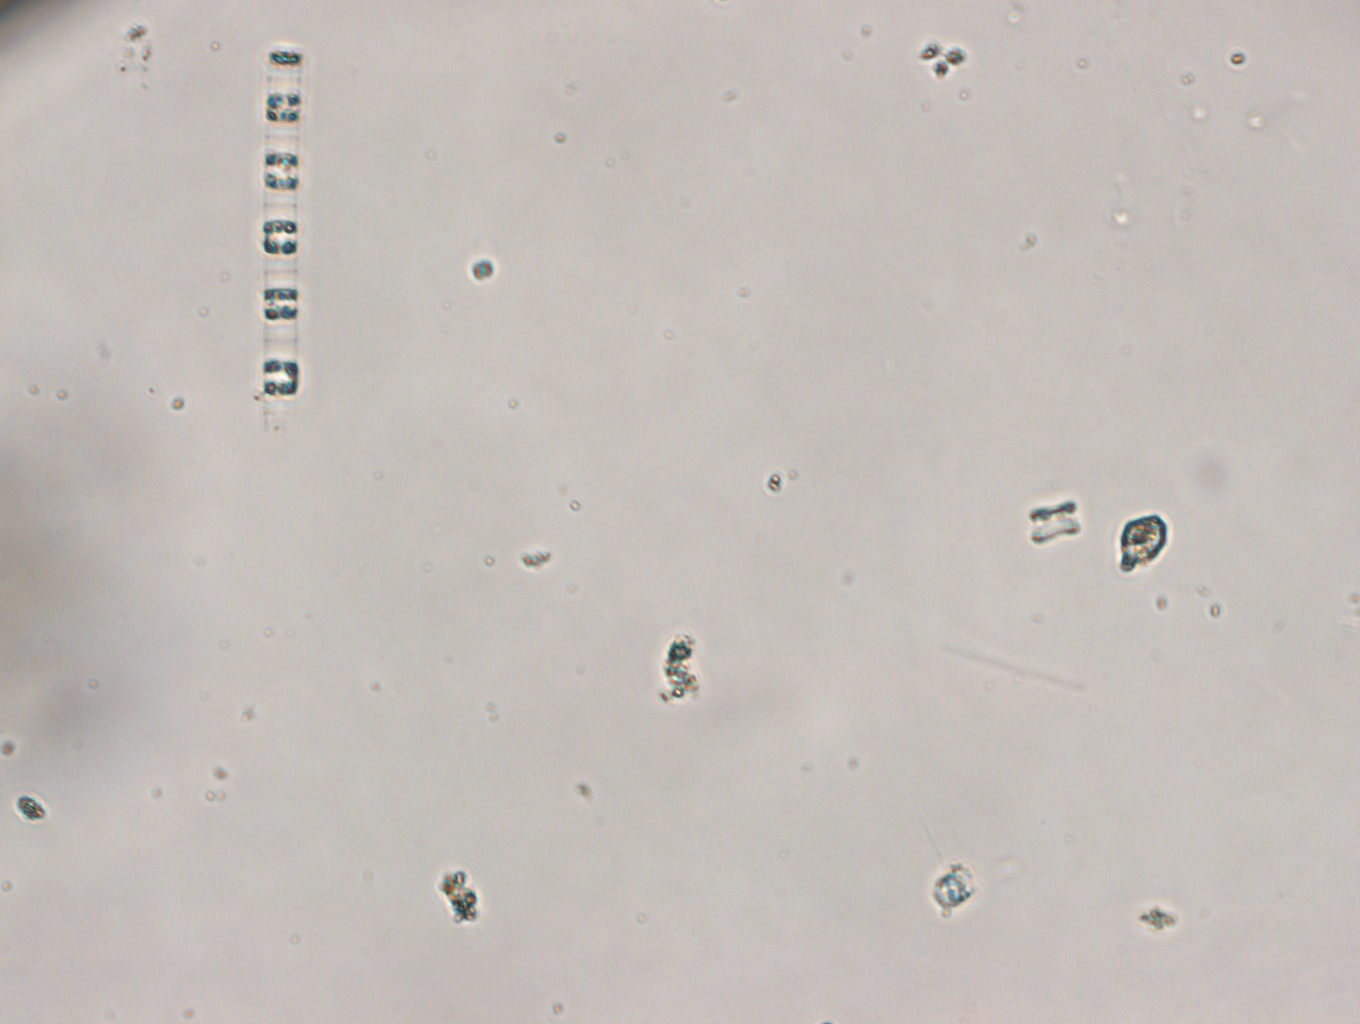skeletonema: (259, 41, 305, 408)
